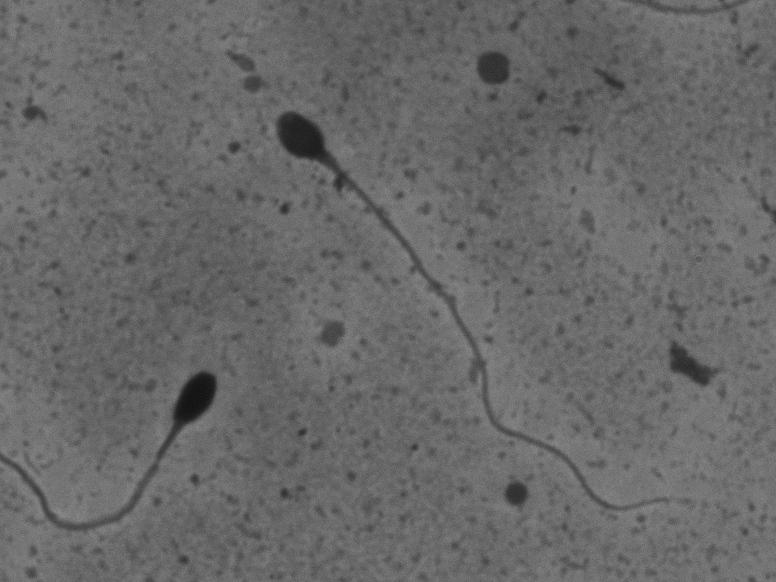Normal: (271, 87, 706, 528), (13, 326, 241, 552)
